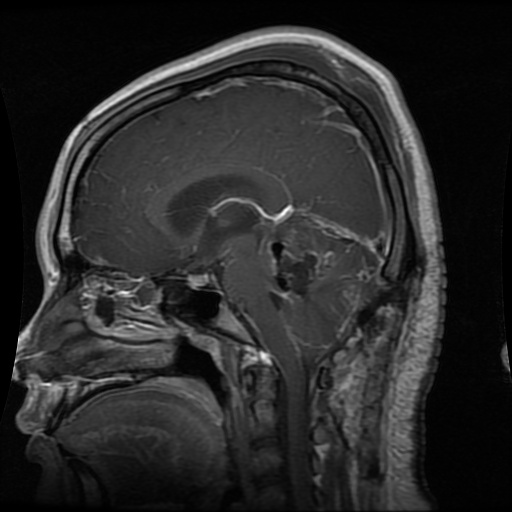glioma: (268, 224, 334, 316)
